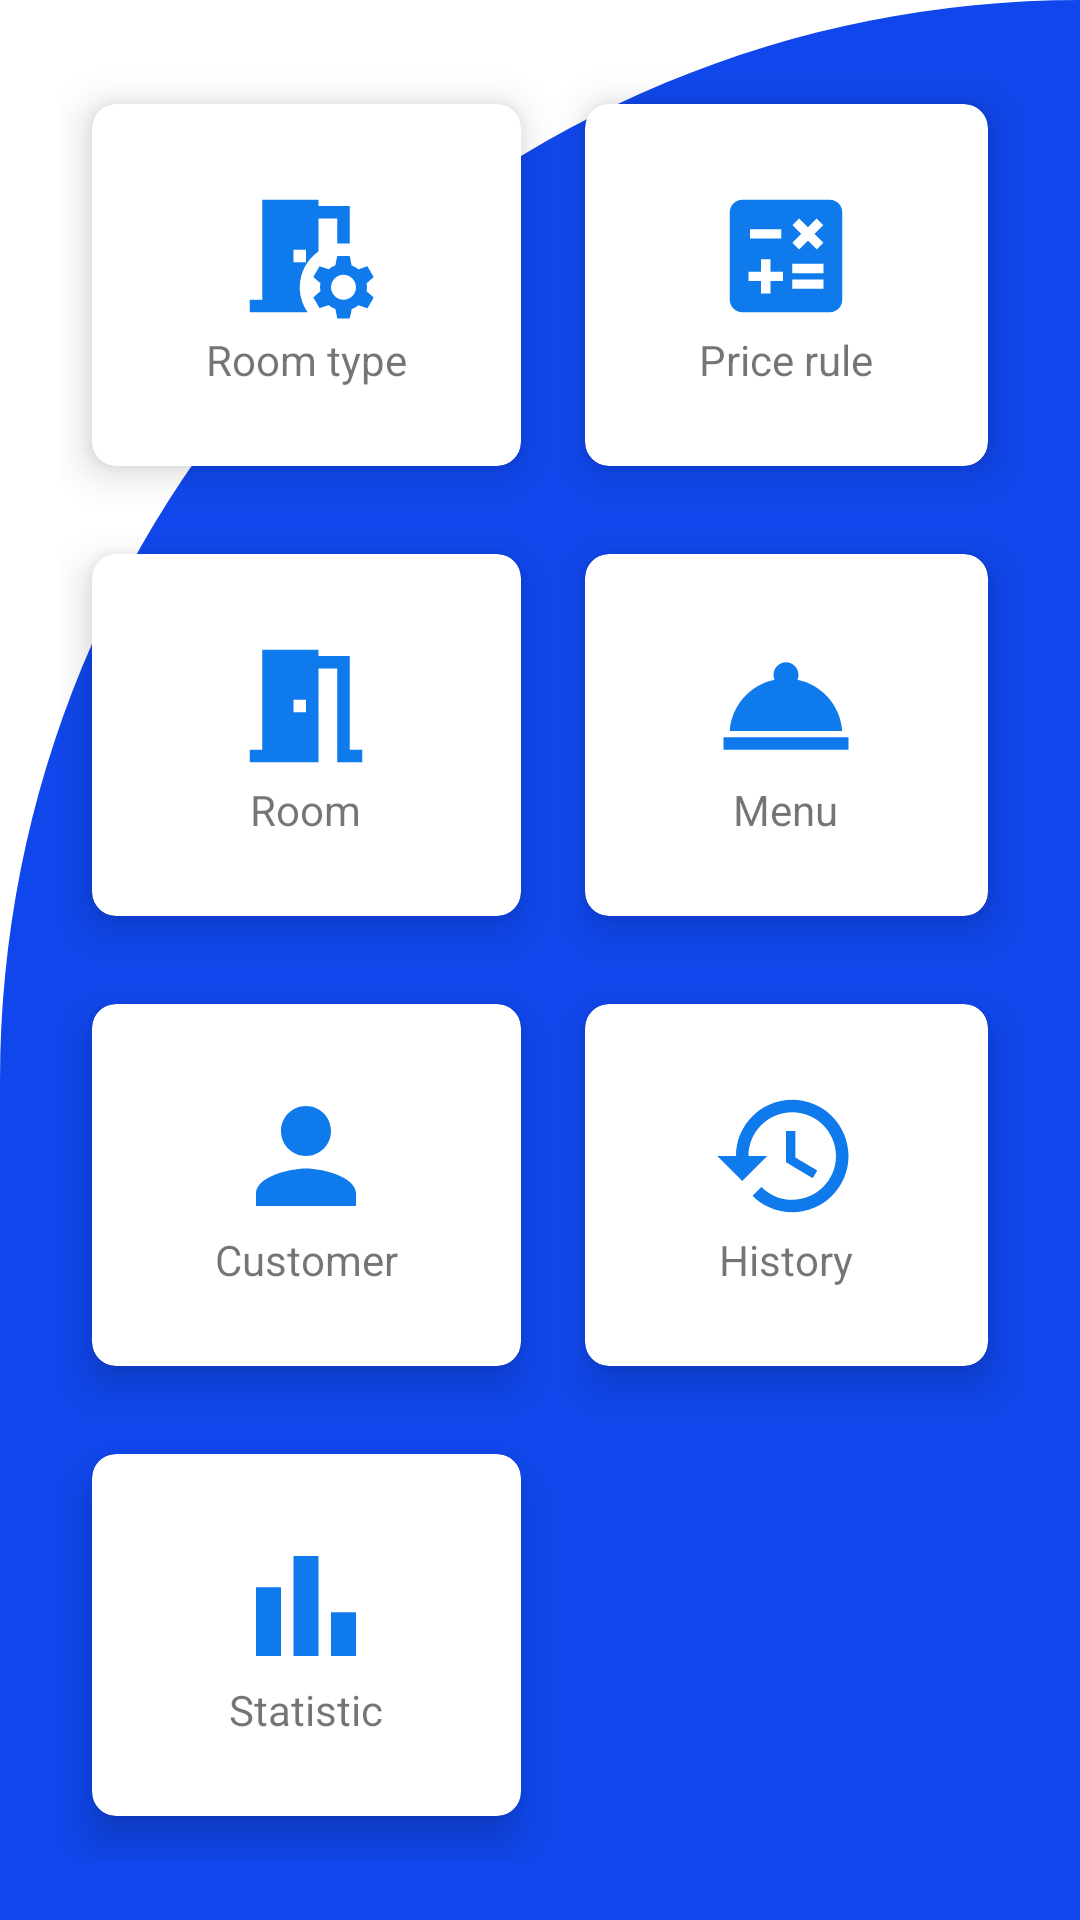

Named icons in this screenshot (1080×1920) and their bounding boxes, (x1, y1, x2, y2):
caculate: (729, 199, 843, 313)
service: (723, 662, 849, 750)
